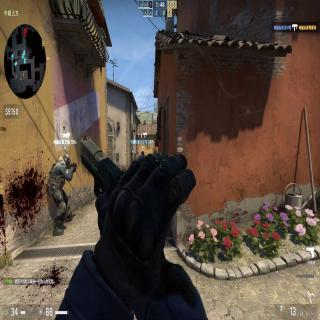CT-Body: (46, 154, 75, 237)
CT-Head: (63, 154, 70, 168)
